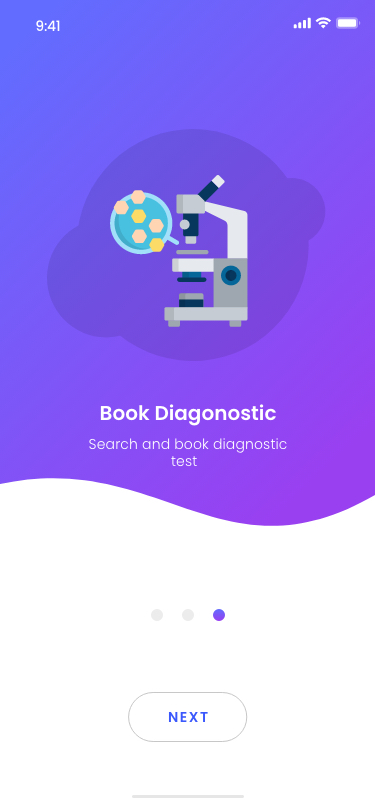Image: (47, 129, 326, 362)
PageIndicator: (150, 608, 226, 623)
Text: (89, 437, 288, 467), (101, 404, 277, 427)
TextButton: (128, 692, 248, 742)
UpperTaskBar: (36, 17, 361, 33)
